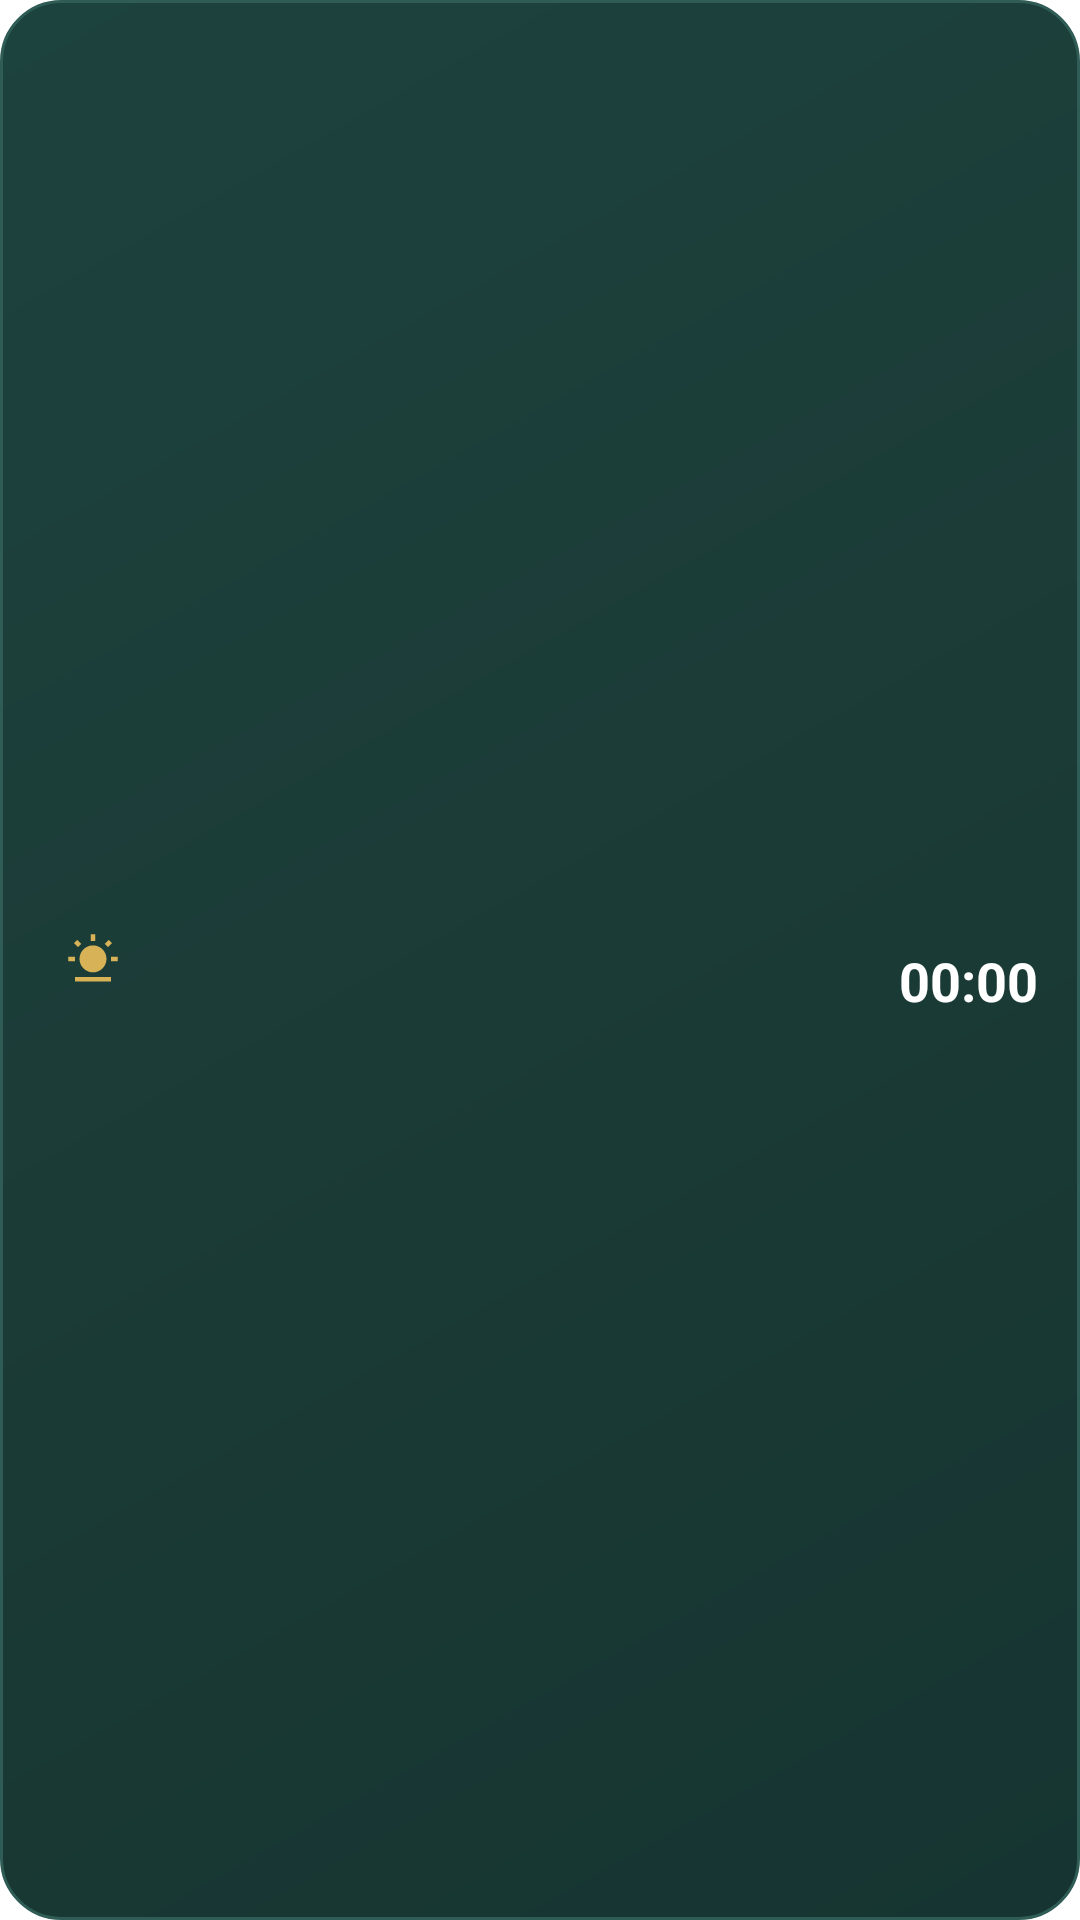

Where icons sit on this 1080px×1920px app screen, as (x1, y1, x2, y2):
widget asr: (68, 934, 118, 982)
